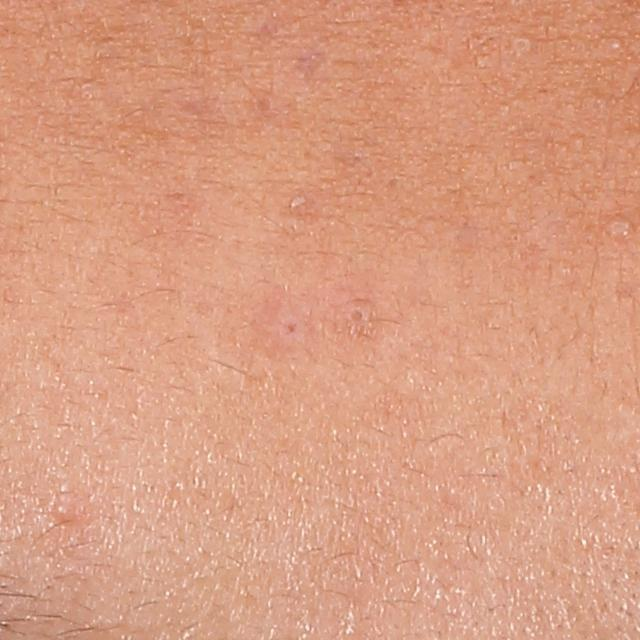comedo: (46, 496, 74, 522), (605, 218, 636, 238), (510, 33, 535, 53), (344, 306, 365, 329), (607, 34, 627, 51)
